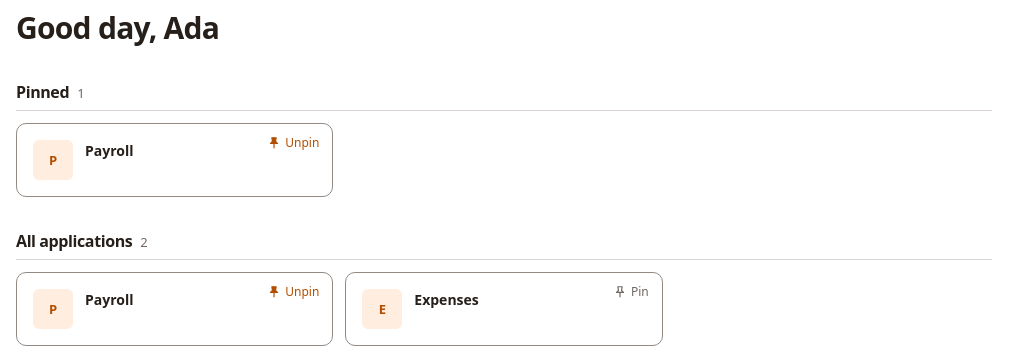
Pinned and recently used › unpins, and the row goes away when it is empty
Click the button with aria-label "Unpin Payroll" at x=293, y=143, box [261,131,325,155]
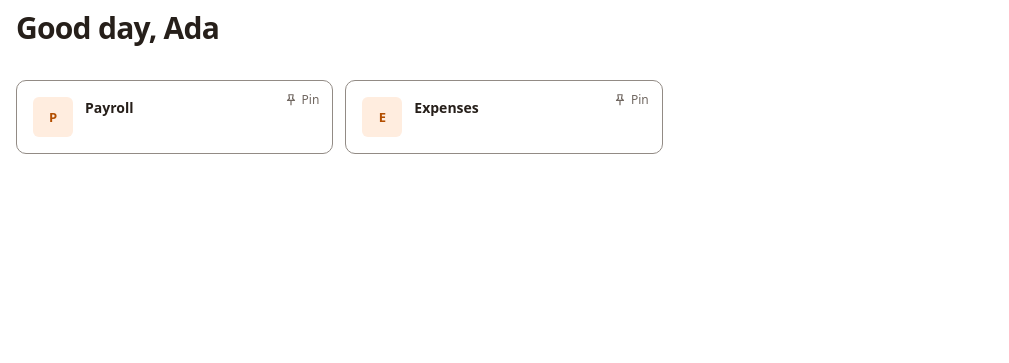
Expected: the heading "Pinned" is gone
